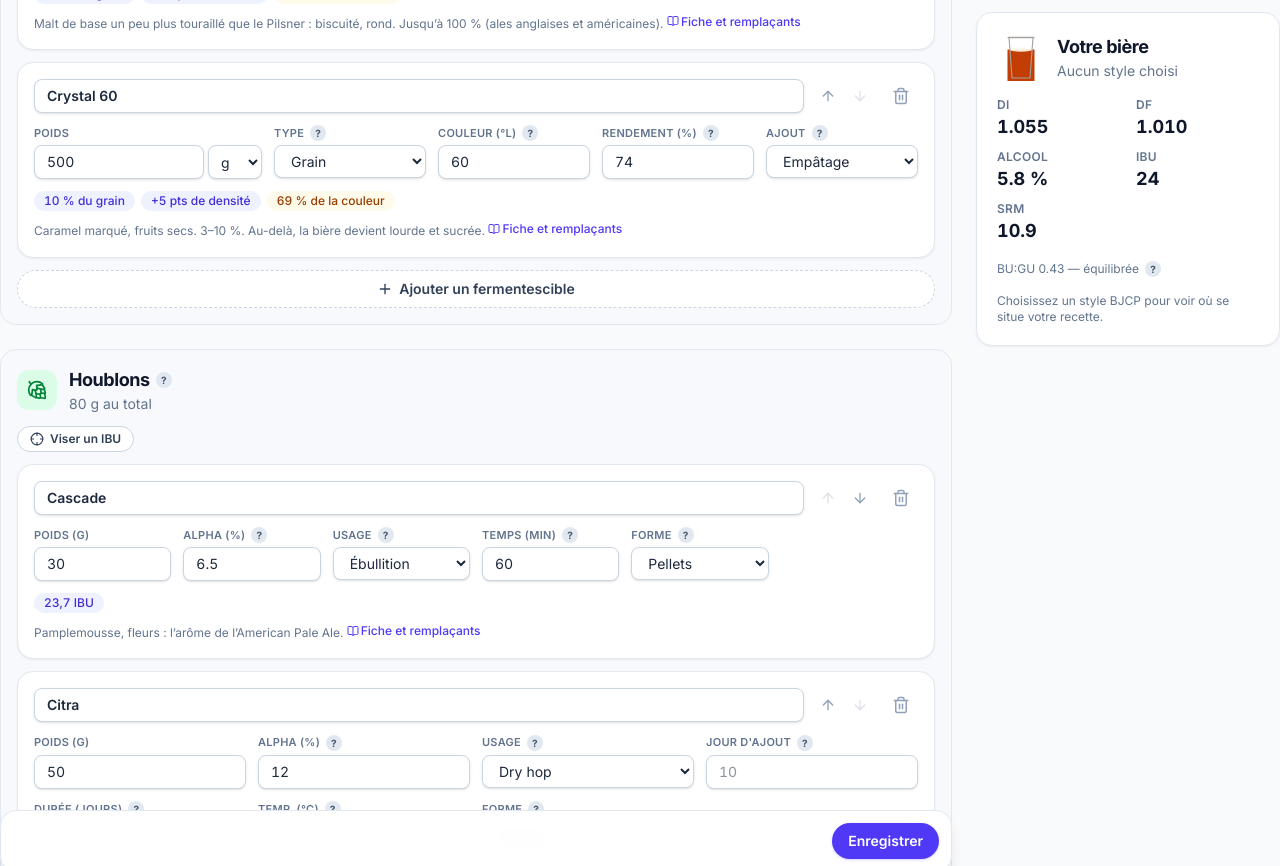
Test: RecipeForm › dose le houblon amérisant pour viser un IBU
(page scrolled)
Click the button "Viser un IBU".
click(76, 438)  # box [17,426,134,452]
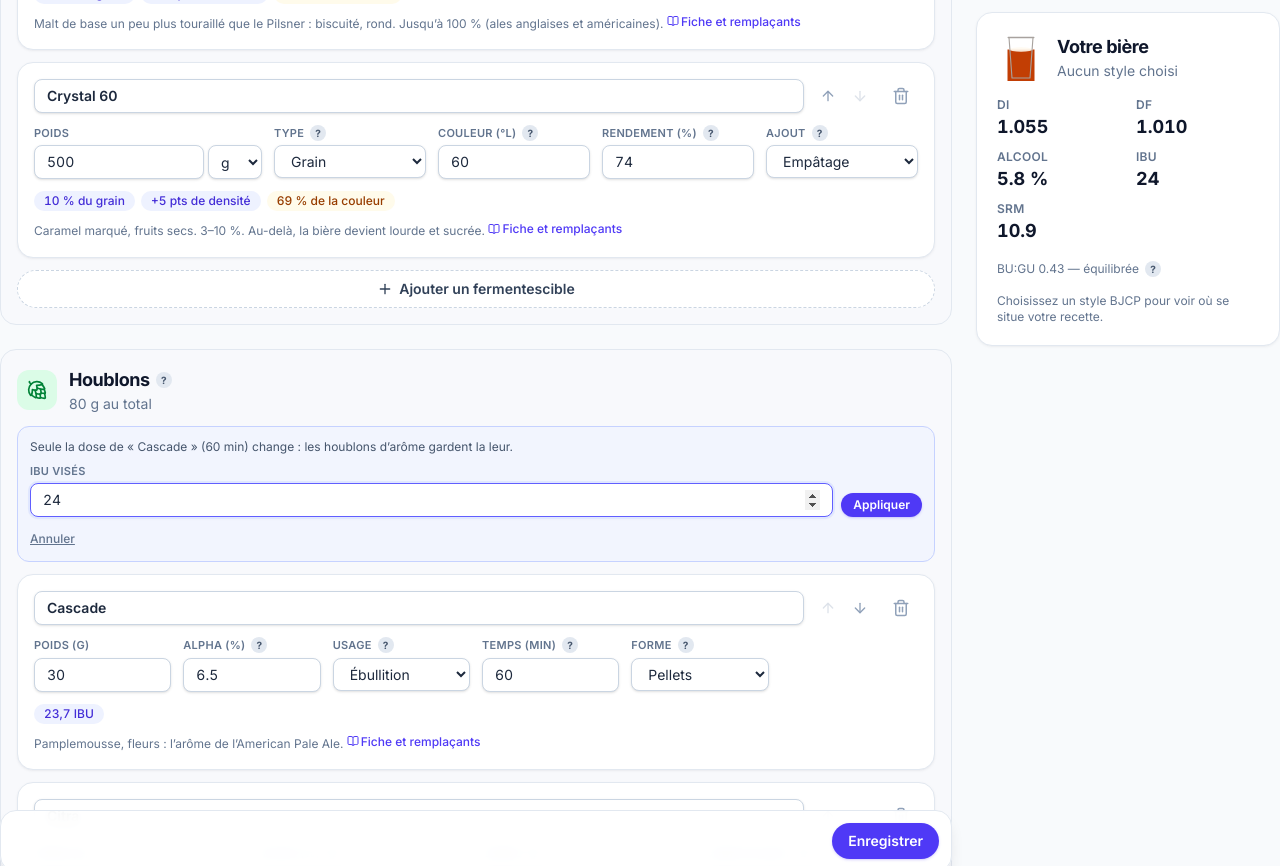
Check: the text "Seule la dose de « Cascade » (60 min)" is shown, box [30,438,513,454]
Replace the text in the number field labelled "IBU visés" with "40" at (432, 500), box [30,483,833,517]
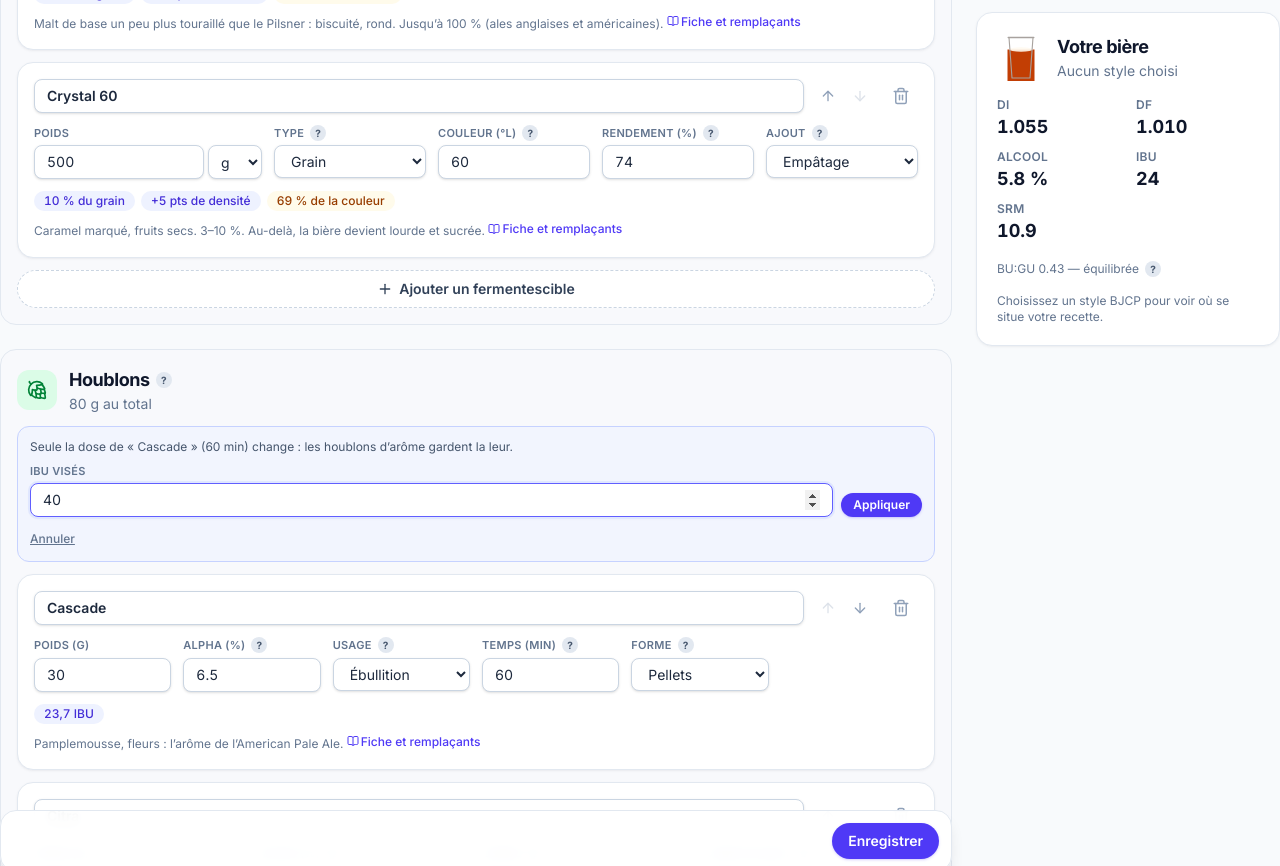
Click the button "Appliquer".
click(882, 505)  # box [841,493,922,517]
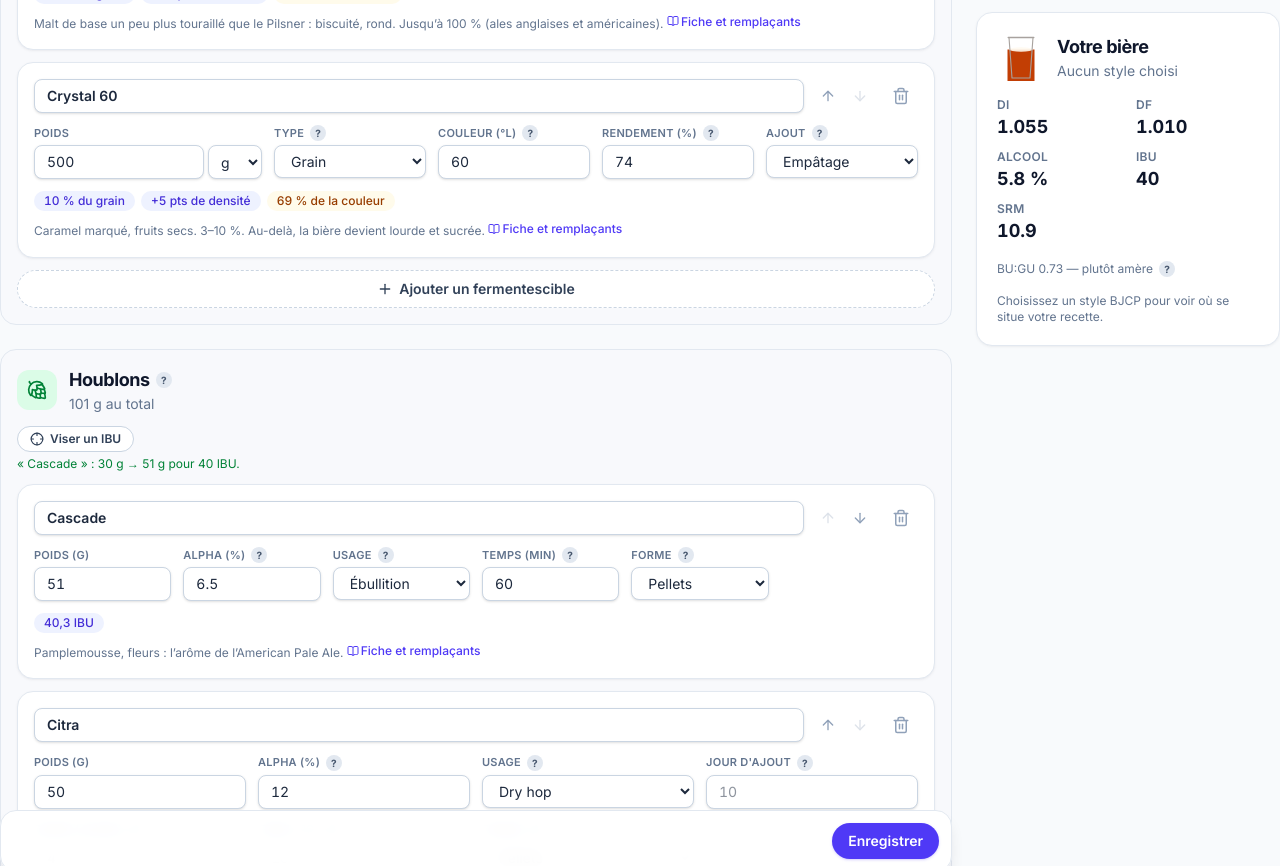
Check: the text "« Cascade » : 30 g → 51 g pour 40 IBU." is shown, box [17,456,240,470]
